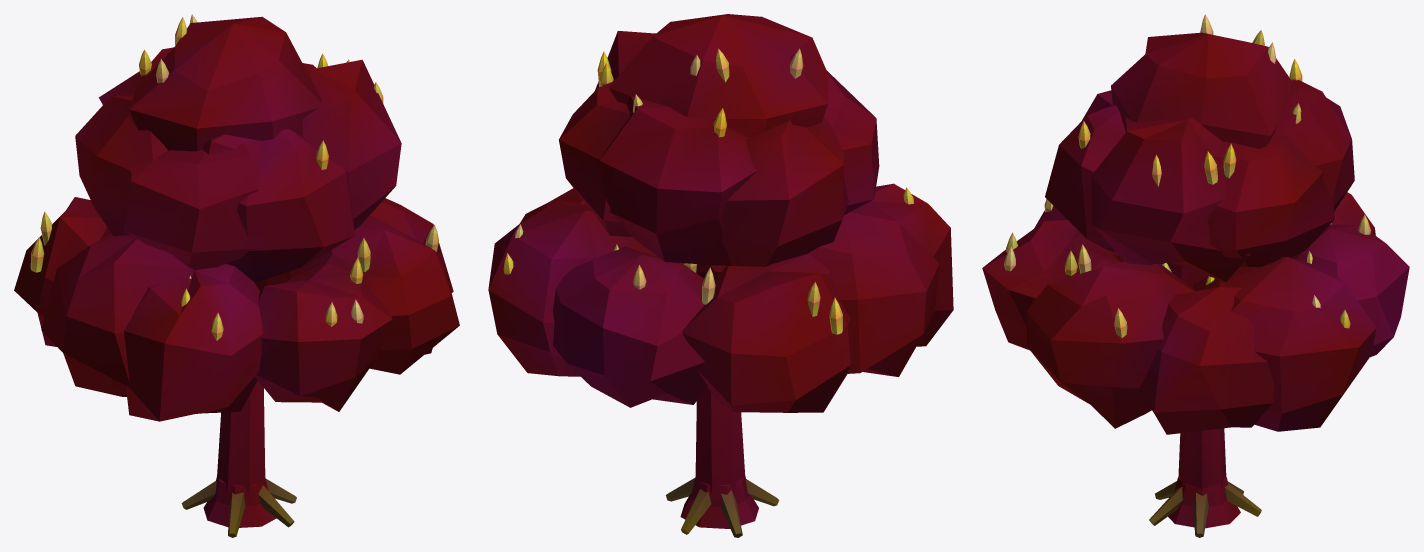
Rendered from Tree_Chestnut_01.fbx.
3 renders of one model, left to right at view 1: azimuth 30°, elevation 25°; view 2: azimuth 150°, elevation 25°; view 3: azimuth 270°, elevation 25°, orthographic. The views are drawn at different scales.
Parts seen in each view (by area): view 1: Tree_Chestnut_01; view 2: Tree_Chestnut_01; view 3: Tree_Chestnut_01.
Boxes of the visible parts, x1,y1,x2,y2 form: Tree_Chestnut_01: [14, 14, 459, 537]; Tree_Chestnut_01: [488, 14, 953, 537]; Tree_Chestnut_01: [982, 14, 1409, 537].
Bounding box in the file's own units: 6.84 × 8.46 × 6.85.
